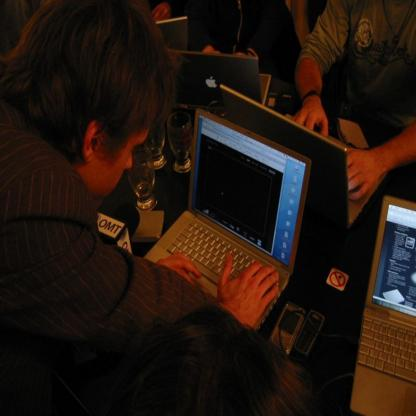board: (120, 112, 314, 354), (348, 197, 416, 416), (167, 48, 271, 107), (155, 17, 188, 50)
